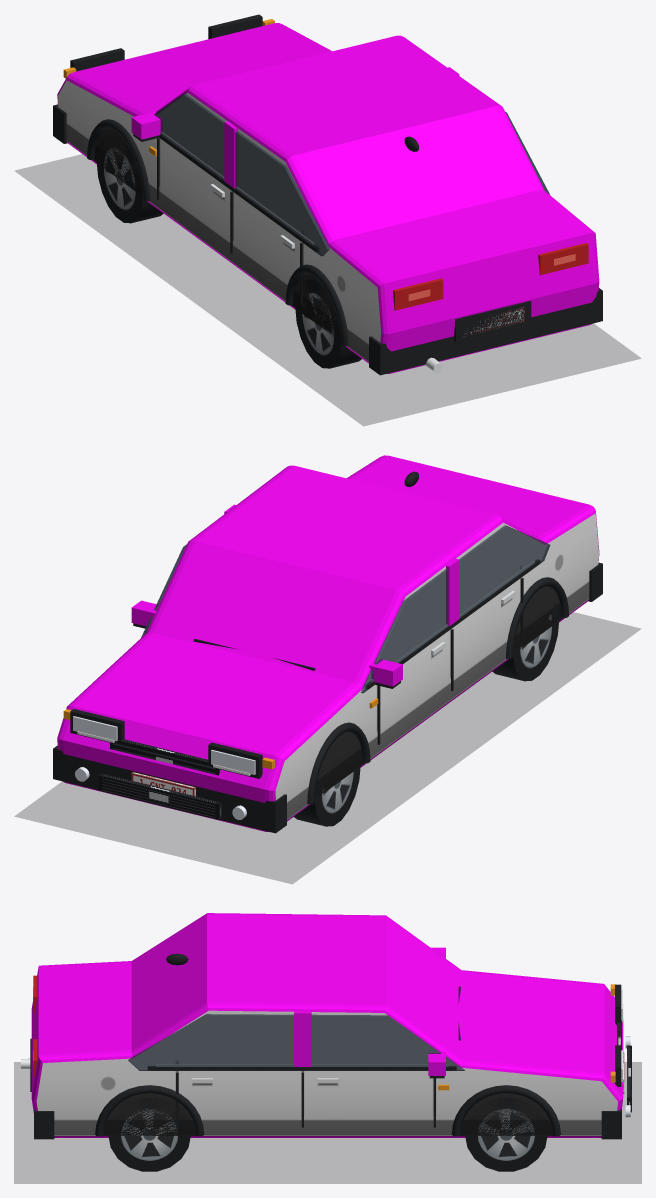
Rendered from car-sedan.obj.
3 renders of one model, top to bottom at view 1: azimuth 30°, elevation 25°; view 2: azimuth 150°, elevation 25°; view 3: azimuth 270°, elevation 25°, orthographic. The views are drawn at different scales.
Parts seen in each view (by area): view 1: body, shadowpad.nocast, part1.nocast, part33, part11, part12, part56.nocast, part39.nocast, part40.nocast, part19.nocast, part27.nocast, part9 (+4 smaller); view 2: body, shadowpad.nocast, part1.nocast, part32, part51.nocast, part12, part11, part15.nocast, part39.nocast, part40.nocast, part9, part10.nocast (+6 smaller); view 3: body, shadowpad.nocast, part1.nocast, part13, part14, part41.nocast, part42.nocast, part10.nocast, part9, part50.nocast, part32, part33 (+1 smaller).
Part boxes in pixels (bbox=[...]): body: bbox=[57, 23, 599, 373]; shadowpad.nocast: bbox=[15, 154, 640, 425]; part1.nocast: bbox=[154, 93, 549, 256]; part33: bbox=[369, 288, 602, 375]; part11: bbox=[96, 134, 163, 223]; part12: bbox=[295, 279, 361, 368]; part56.nocast: bbox=[454, 301, 531, 342]; part39.nocast: bbox=[87, 119, 149, 200]; part40.nocast: bbox=[285, 264, 348, 346]; part19.nocast: bbox=[393, 278, 443, 310]; part27.nocast: bbox=[538, 243, 588, 274]; part9: bbox=[224, 67, 459, 188]; body: bbox=[57, 455, 599, 832]; shadowpad.nocast: bbox=[15, 612, 640, 883]; part1.nocast: bbox=[141, 525, 550, 693]; part32: bbox=[53, 745, 286, 833]; part51.nocast: bbox=[98, 773, 222, 819]; part12: bbox=[492, 601, 558, 681]; part11: bbox=[294, 739, 360, 826]; part15.nocast: bbox=[110, 739, 220, 776]; part39.nocast: bbox=[307, 722, 370, 804]; part40.nocast: bbox=[506, 577, 568, 658]; part9: bbox=[224, 504, 459, 625]; part10.nocast: bbox=[145, 559, 540, 689]; body: bbox=[31, 913, 623, 1137]; shadowpad.nocast: bbox=[14, 1062, 641, 1183]; part1.nocast: bbox=[128, 1014, 464, 1070]; part13: bbox=[465, 1097, 547, 1171]; part14: bbox=[108, 1097, 190, 1171]; part41.nocast: bbox=[451, 1085, 560, 1136]; part42.nocast: bbox=[95, 1085, 204, 1136]; part10.nocast: bbox=[147, 1066, 456, 1070]; part9: bbox=[294, 1011, 311, 1066]; part50.nocast: bbox=[156, 1064, 448, 1066]; part32: bbox=[601, 1108, 621, 1139]; part33: bbox=[34, 1109, 54, 1139].
Bounding box in the file's own units: 2.3 × 1.5 × 5.
